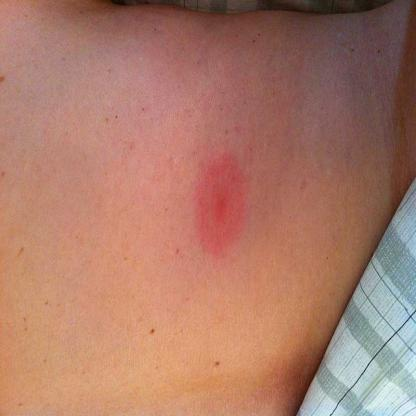Tick: (186, 145, 257, 269)
